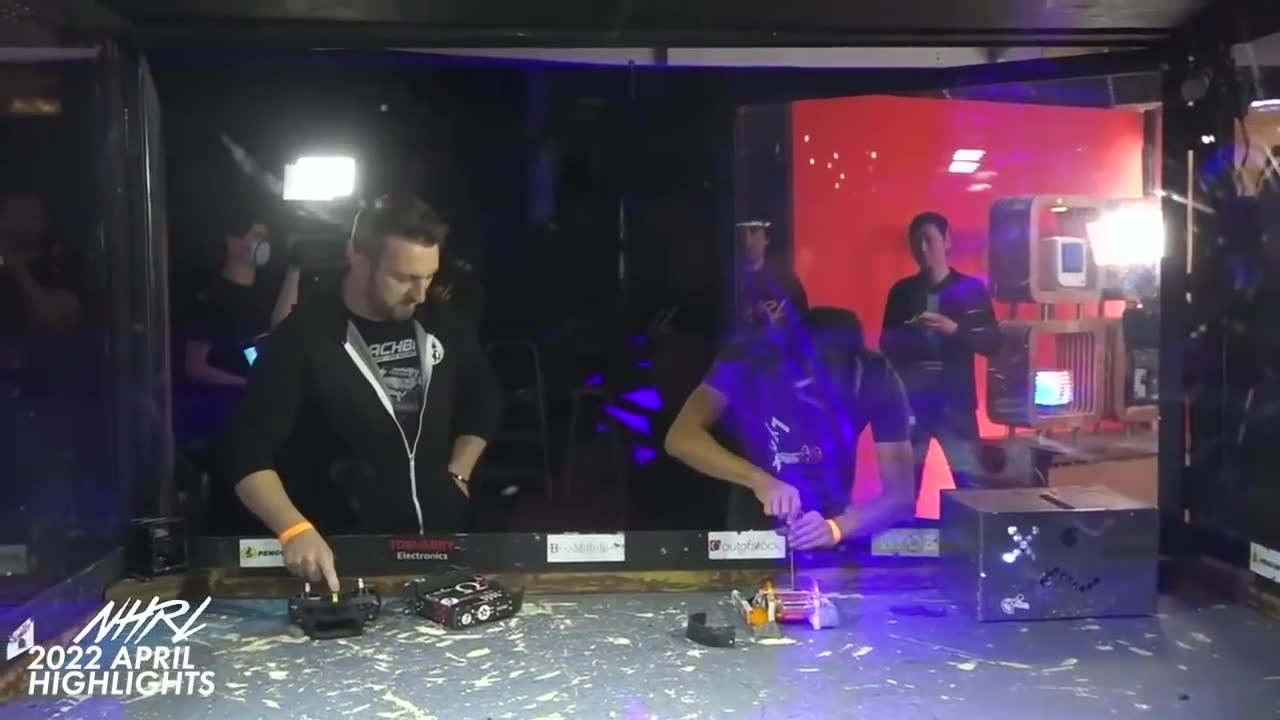combatbot: (729, 582, 843, 637), (414, 580, 520, 630), (288, 588, 382, 633)
housebot: (944, 486, 1160, 626)
